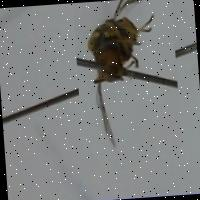Oriental-fruit-fly: (71, 0, 180, 152)
